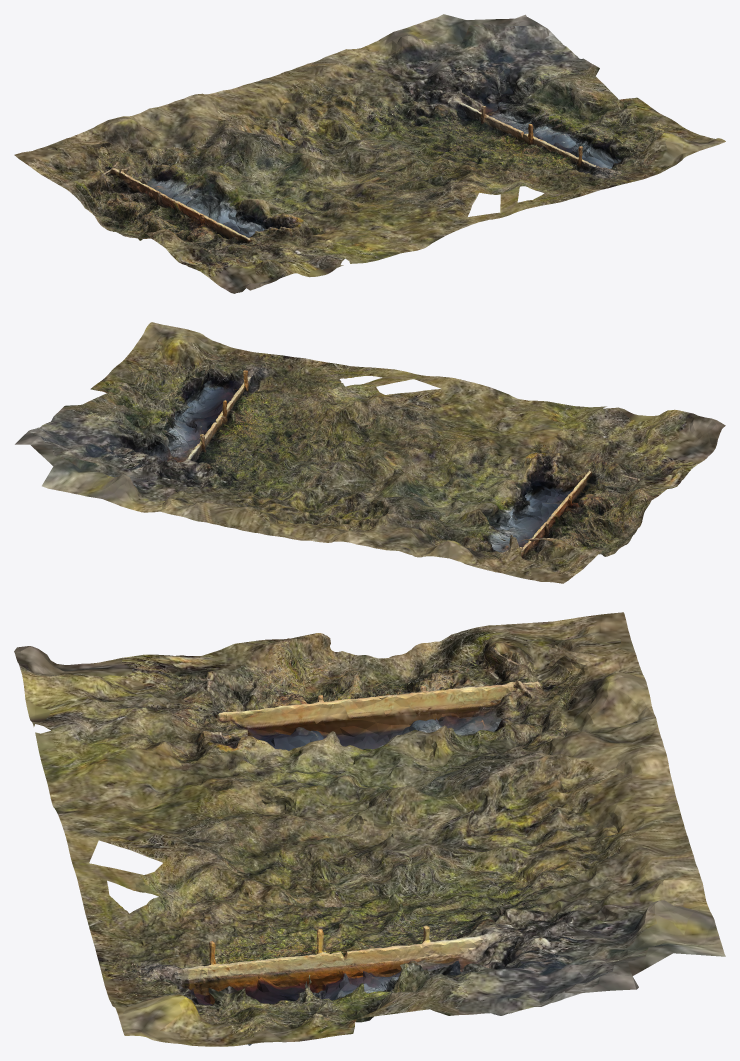
The model's file is Timber_Dams.glb.
3 views of the same model, one above another, from view 1: azimuth 30°, elevation 25°; view 2: azimuth 150°, elevation 25°; view 3: azimuth 270°, elevation 25° (orthographic). The views are drawn at different scales.
Bounding box in the file's own units: 7.29 × 0.7969 × 5.24.
Materials: 1 (1 with a texture image).
